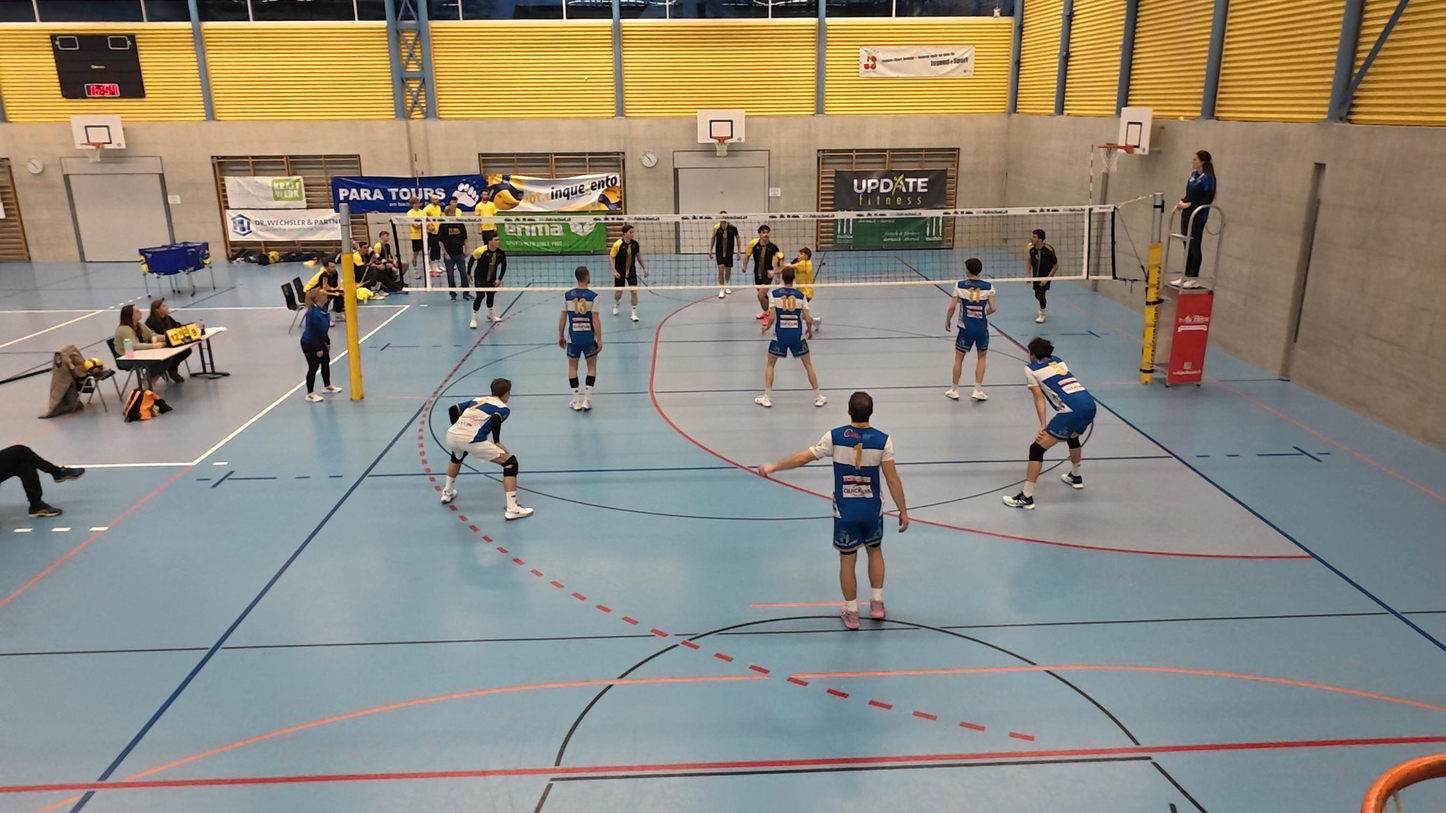Player: (755, 393, 907, 629), (1007, 338, 1096, 509), (435, 378, 531, 520), (758, 279, 827, 409), (940, 259, 997, 403), (557, 268, 603, 411), (467, 231, 506, 330), (608, 222, 644, 323), (747, 227, 783, 323), (1025, 229, 1059, 324), (710, 210, 742, 302)
Set: (763, 243, 823, 333)
ball: (771, 247, 785, 270)
